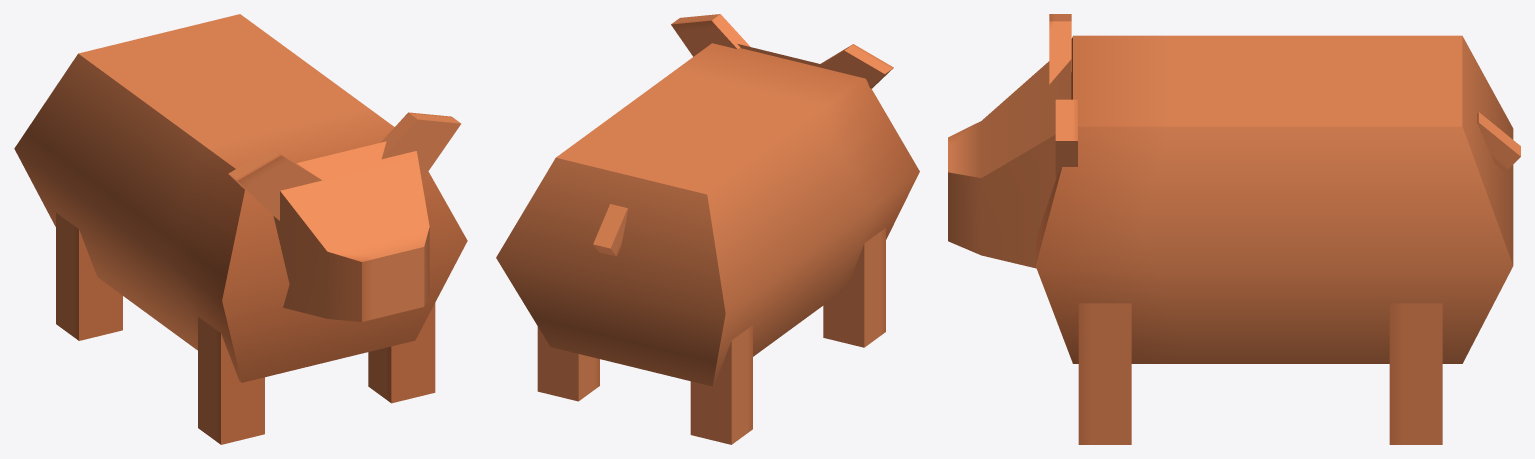
The model's file is pig.fbx.
3 views of the same model, side by side, from view 1: azimuth 30°, elevation 25°; view 2: azimuth 150°, elevation 25°; view 3: azimuth 270°, elevation 25° (orthographic). The views are drawn at different scales.
Parts seen in each view (by area): view 1: swineherd:polySurface226; view 2: swineherd:polySurface226; view 3: swineherd:polySurface226.
Boxes of the visible parts, x1,y1,x2,y2 form: swineherd:polySurface226: (14, 14, 467, 444); swineherd:polySurface226: (496, 14, 919, 444); swineherd:polySurface226: (948, 14, 1520, 444).
Size of the model in its own units: 8.23 by 9.1 by 14.32.
Materials: 1 (1 with a texture image).
